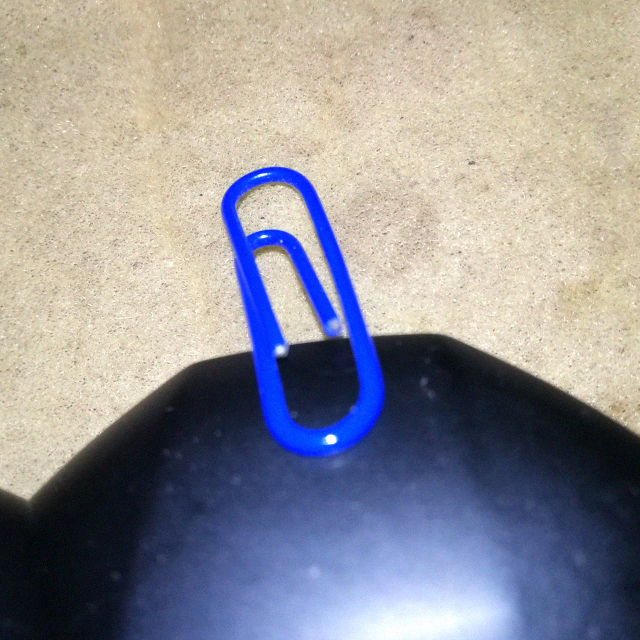pin: (214, 147, 390, 460)
